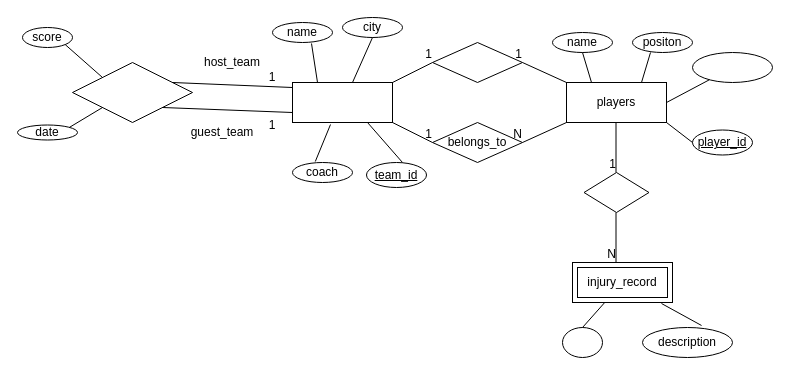
This 790x375 diagram has some shape labels left out. The centre of each missing label's shape, as x and y in pixels:
"captain" belongs at pixel 477 62.
"game" belongs at pixel 132 92.
"has" belongs at pixel 616 192.
"id" belongs at pixel 582 342.
"skill_level" belongs at pixel 732 67.
"team" belongs at pixel 342 102.
